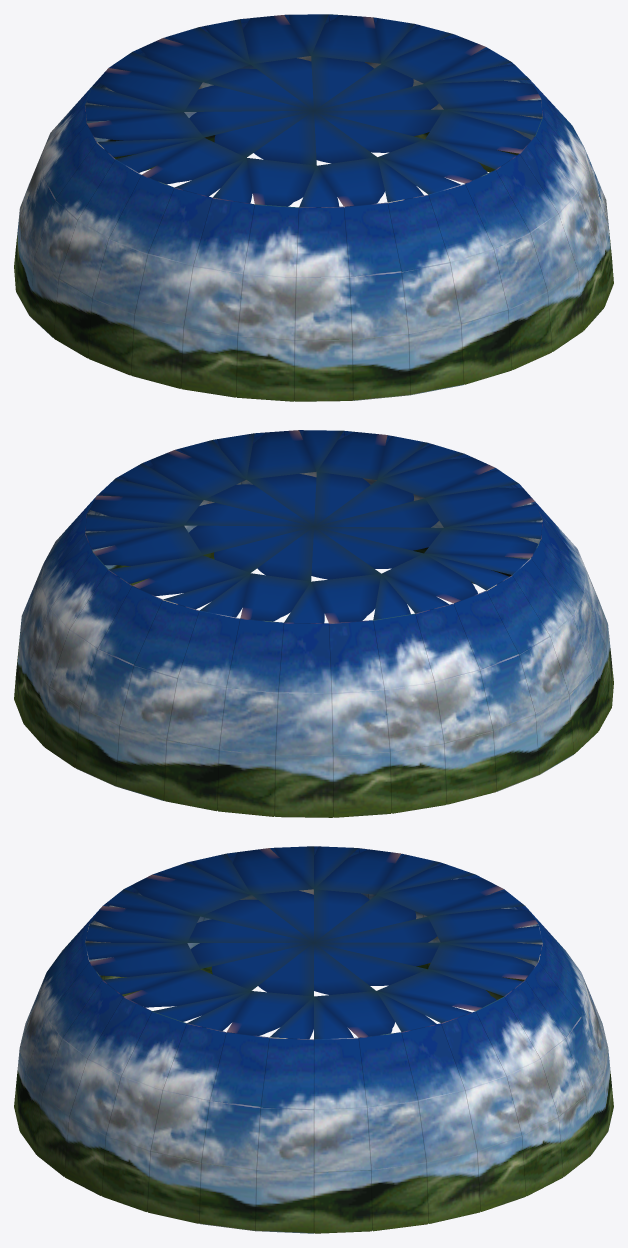
3 renders of one model, top to bottom at view 1: azimuth 30°, elevation 25°; view 2: azimuth 150°, elevation 25°; view 3: azimuth 270°, elevation 25°, orthographic.
Parts seen in each view (by area): view 1: T1L2M008_43; view 2: T1L2M008_43; view 3: T1L2M008_43.
Part boxes in pixels (bbox=[...]): T1L2M008_43: bbox=[14, 14, 613, 401]; T1L2M008_43: bbox=[14, 430, 613, 817]; T1L2M008_43: bbox=[14, 846, 613, 1233].
Bounding box in the file's own units: 3 × 0.9053 × 3.
1 material, 1 textured.
